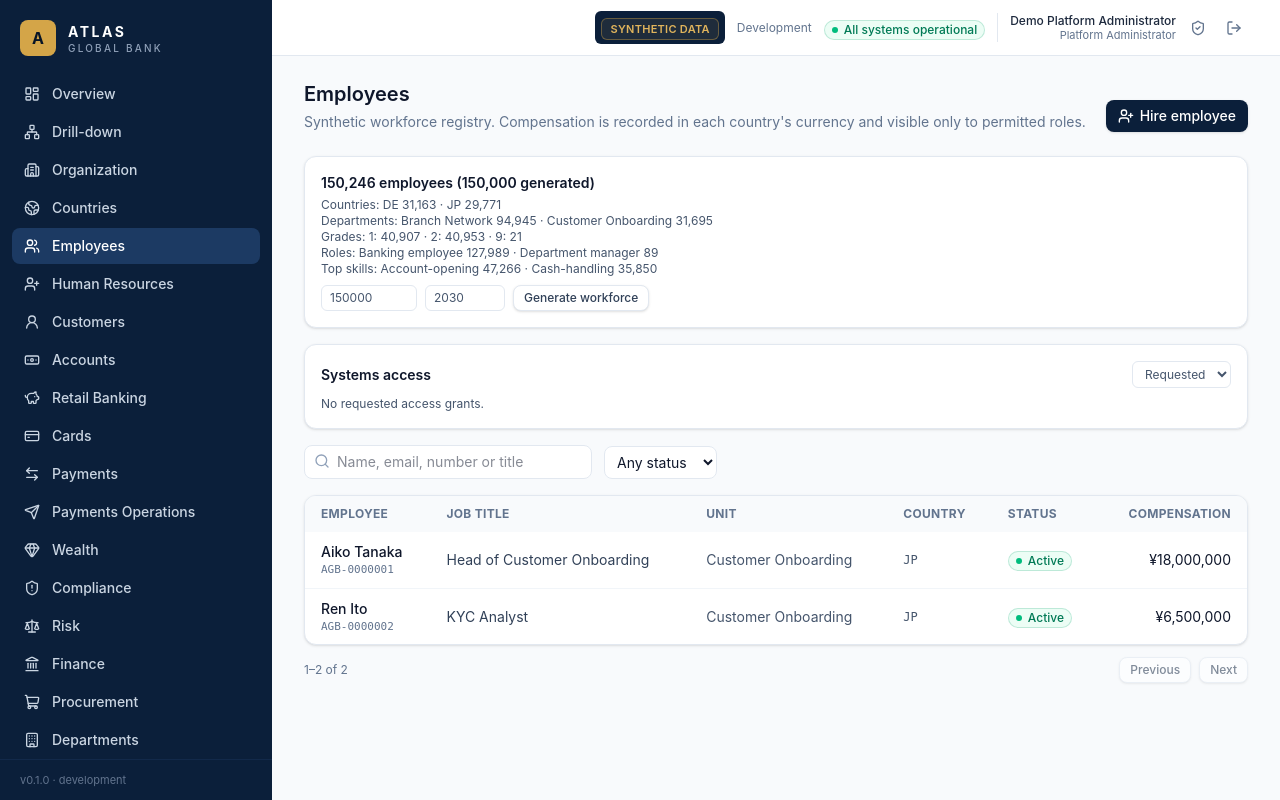
it: Employees page › opens a profile with the reporting chain
The image size is (1280, 800).
Click the button "Ren Ito".
click(344, 609)  # box [321,599,367,619]
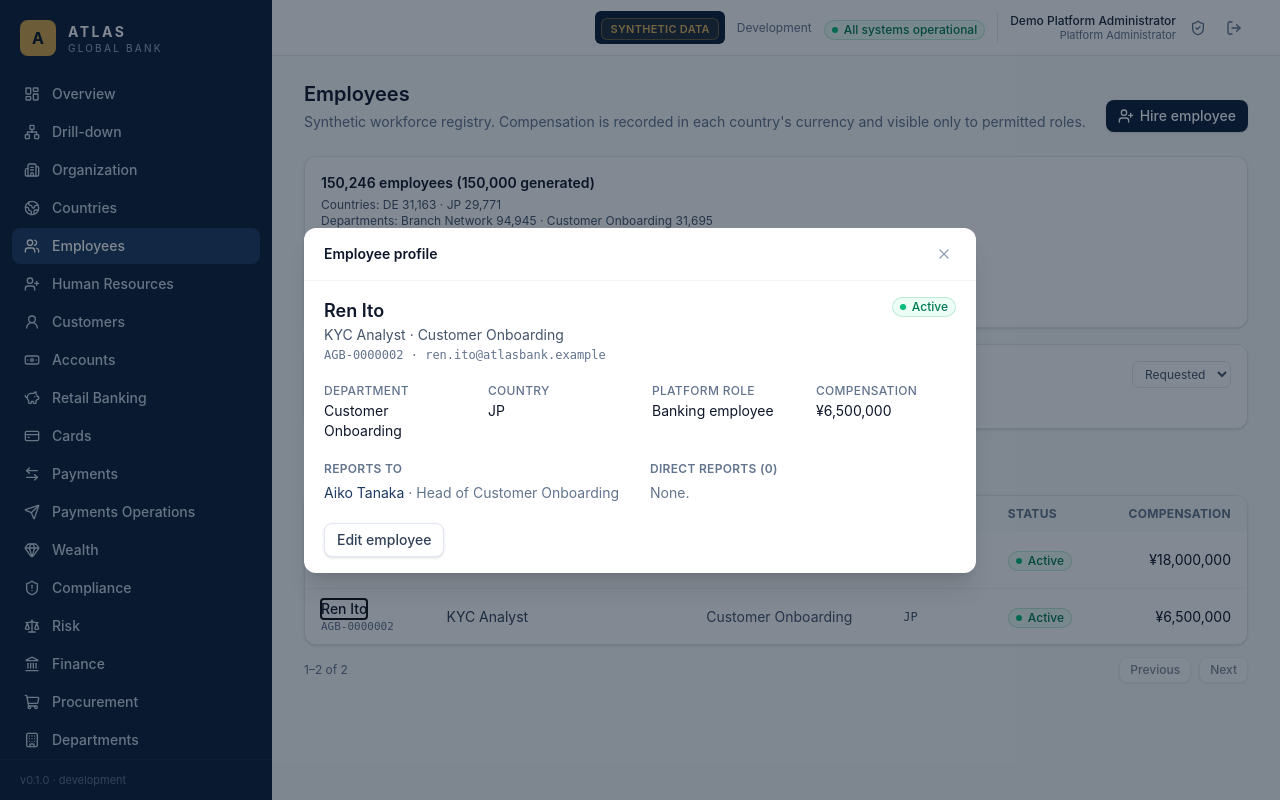
Expected: the button "Aiko Tanaka" is shown, [324,482,404,502]
Expected: the text "AGB-0000002 · ren.ito@atlasbank.example" is shown, [324,346,606,362]
